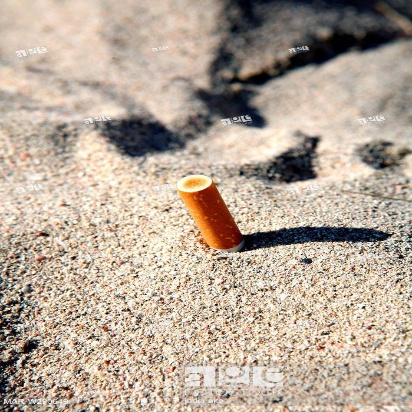cigarette: (176, 169, 249, 259)
